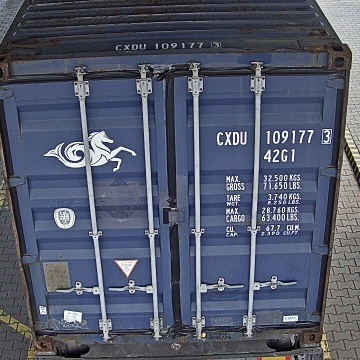serial_id: (216, 129, 331, 145)
